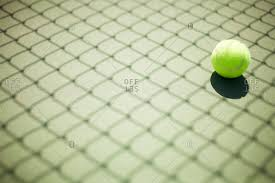tennis_ball: (211, 38, 251, 79)
